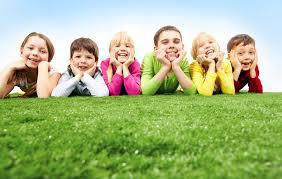child: (1, 31, 61, 102), (137, 20, 190, 98), (56, 34, 107, 103), (185, 30, 230, 96), (224, 32, 267, 98), (103, 27, 140, 95)
